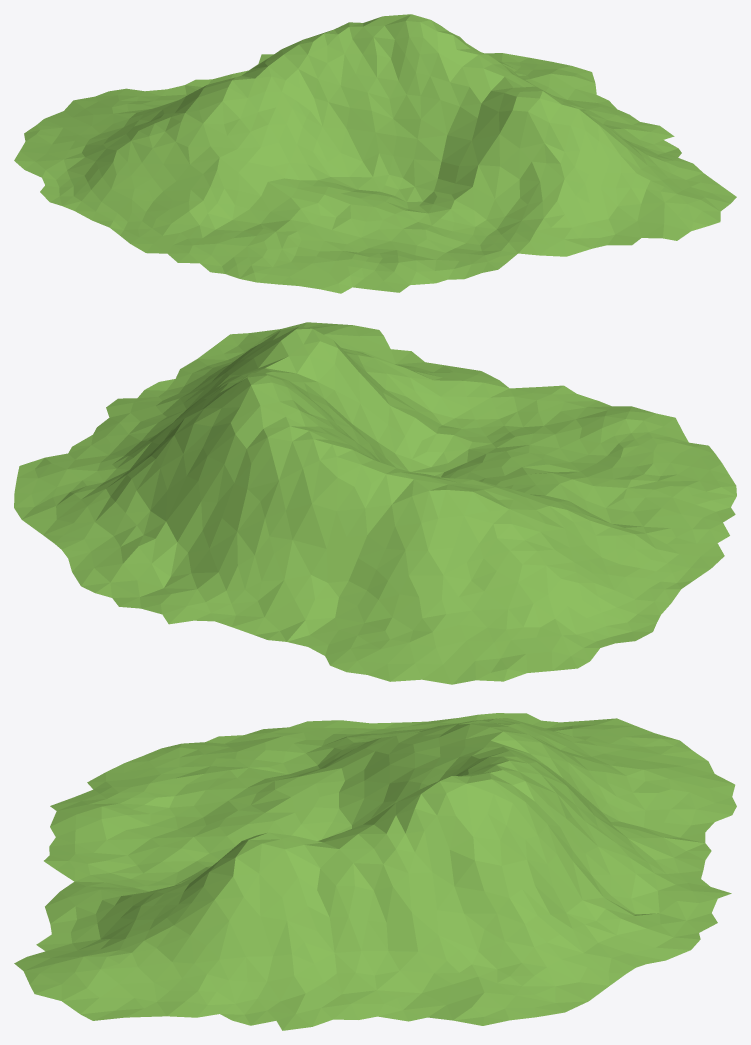
File: MT_Mountain_L_a_20_LOD.fbx
3 renders of one model, top to bottom at view 1: azimuth 30°, elevation 25°; view 2: azimuth 150°, elevation 25°; view 3: azimuth 270°, elevation 25°, orthographic. The views are drawn at different scales.
Parts seen in each view (by area): view 1: MT_Mountain_L_a_20_LOD0; view 2: MT_Mountain_L_a_20_LOD0; view 3: MT_Mountain_L_a_20_LOD0.
Boxes of the visible parts, x1,y1,x2,y2 form: MT_Mountain_L_a_20_LOD0: [14, 14, 736, 293]; MT_Mountain_L_a_20_LOD0: [14, 322, 736, 684]; MT_Mountain_L_a_20_LOD0: [14, 713, 736, 1030].
Size of what is drawn, in the model's own units: 9297 by 1885 by 8945.
